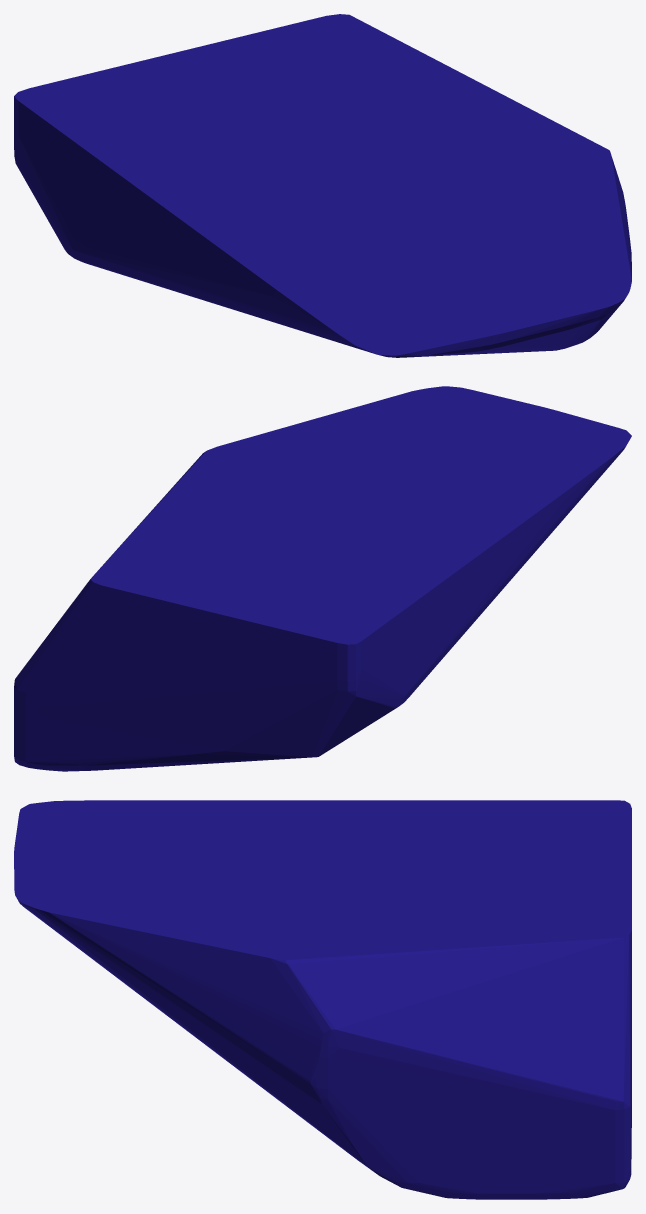
The model's file is left_palm_part_20.obj.
3 views of the same model, one above another, from view 1: azimuth 30°, elevation 25°; view 2: azimuth 150°, elevation 25°; view 3: azimuth 270°, elevation 25° (orthographic). The views are drawn at different scales.
Size of the model in its own units: 21.73 by 12.88 by 32.04.
